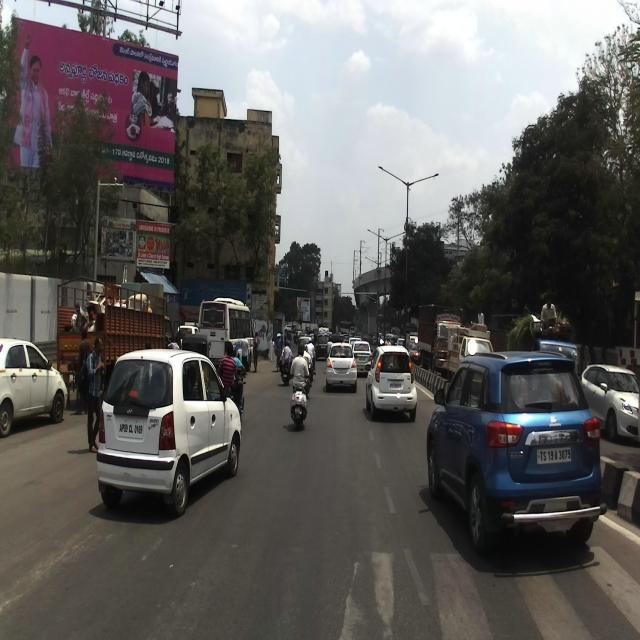Car_Hyundai: (96, 349, 242, 516)
Car_Maruti-Suzuki: (425, 348, 607, 554), (366, 342, 416, 420)
Car_TATA: (0, 337, 67, 437)
scooter: (289, 381, 307, 427)
truck: (57, 276, 181, 404)
